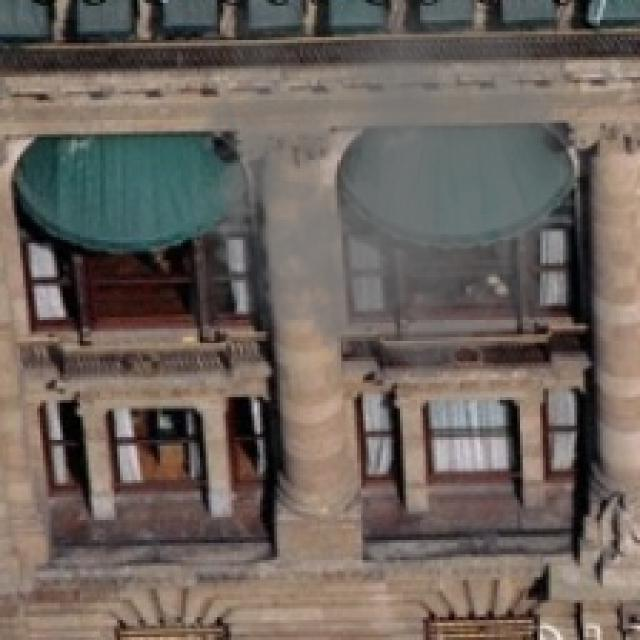smoke: (189, 0, 577, 400)
